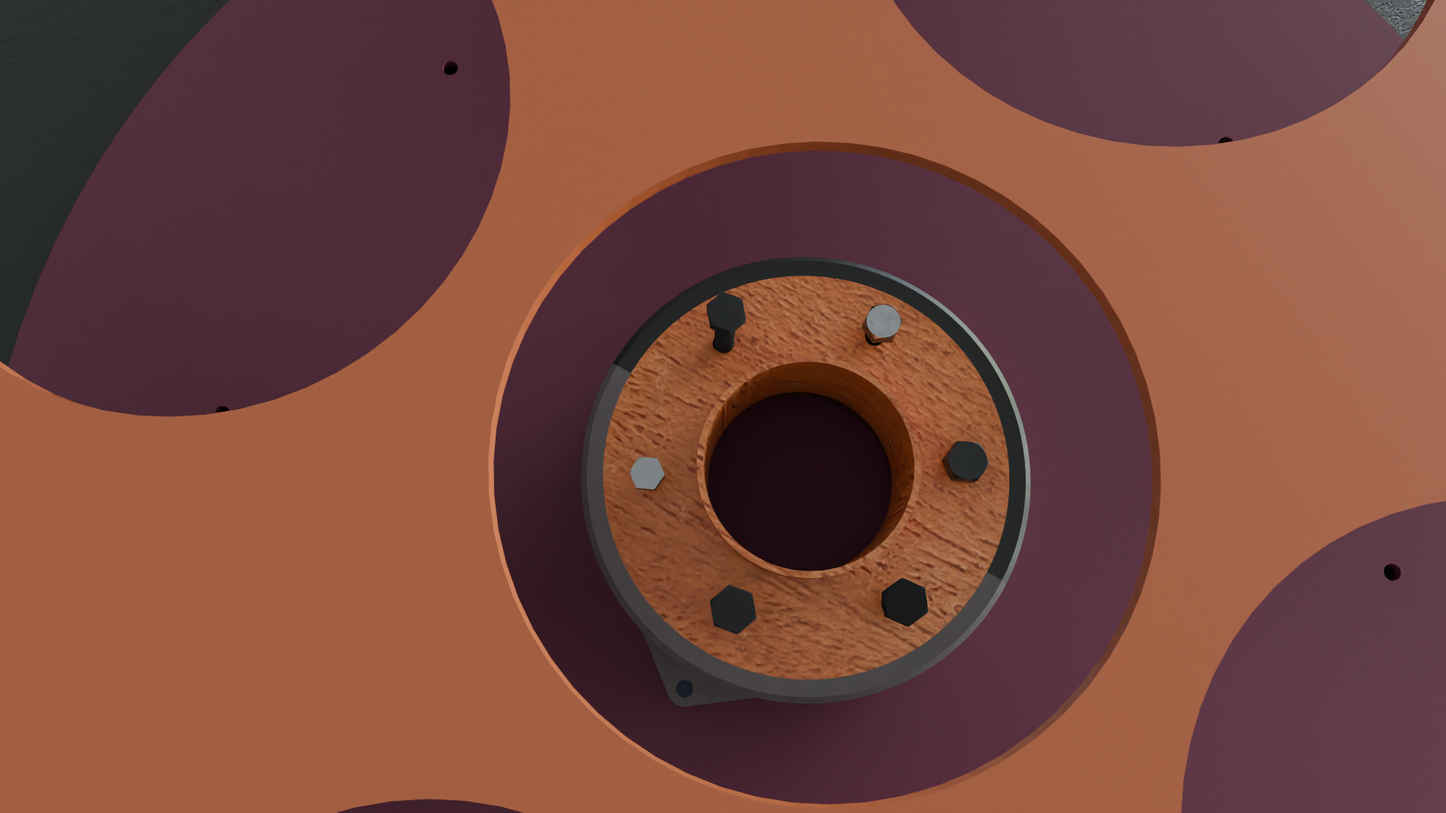bolt: (710, 585, 757, 635), (883, 578, 929, 626), (945, 441, 989, 481), (706, 292, 746, 331), (864, 305, 902, 339), (629, 457, 665, 489)
